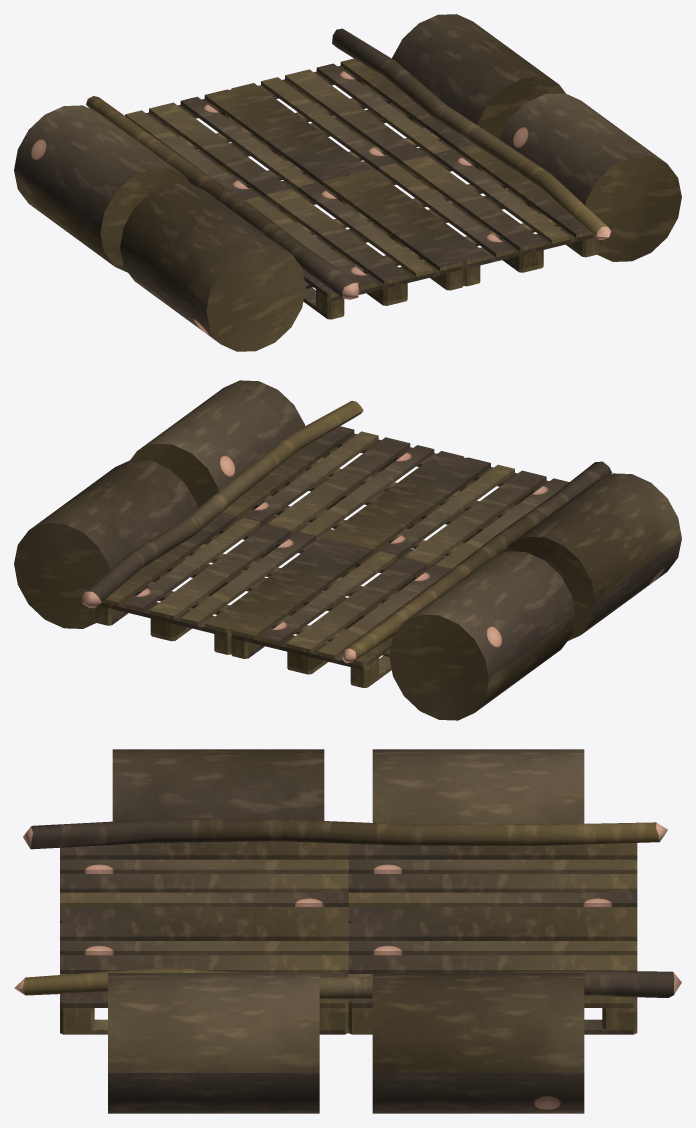
File: Raft001.fbx
3 renders of one model, top to bottom at view 1: azimuth 30°, elevation 25°; view 2: azimuth 150°, elevation 25°; view 3: azimuth 270°, elevation 25°, orthographic. The views are drawn at different scales.
Visible parts, largest first — view 1: Oil_drum_proxy.002, EUR_pallet_proxy.001, Oil_drum_proxy, Oil_drum_proxy.003, EUR_pallet_proxy, EUR_pallet_proxy.003, EUR_pallet_proxy.002, Oil_drum_proxy.001, Big_trunk_2_proxy, Big_trunk_1_proxy; view 2: Oil_drum_proxy.003, EUR_pallet_proxy.003, Oil_drum_proxy.001, EUR_pallet_proxy.002, Oil_drum_proxy.002, EUR_pallet_proxy.001, EUR_pallet_proxy, Oil_drum_proxy, Big_trunk_2_proxy, Big_trunk_1_proxy; view 3: Oil_drum_proxy.001, Oil_drum_proxy, EUR_pallet_proxy, EUR_pallet_proxy.002, EUR_pallet_proxy.003, EUR_pallet_proxy.001, Oil_drum_proxy.003, Oil_drum_proxy.002, Big_trunk_1_proxy, Big_trunk_2_proxy.
Part boxes in pixels (x1,y1,x2,y2): Oil_drum_proxy.002: (120,183,305,351); EUR_pallet_proxy.001: (348,144,599,286); Oil_drum_proxy: (499,93,681,261); Oil_drum_proxy.003: (14,105,190,272); EUR_pallet_proxy: (244,176,463,319); EUR_pallet_proxy.003: (231,58,472,176); EUR_pallet_proxy.002: (125,89,345,200); Oil_drum_proxy.001: (392,14,565,138); Big_trunk_2_proxy: (332,28,611,239); Big_trunk_1_proxy: (86,96,359,299); Oil_drum_proxy.003: (389,551,575,720); EUR_pallet_proxy.003: (95,512,346,654); Oil_drum_proxy.001: (14,459,197,628); EUR_pallet_proxy.002: (231,544,451,687); Oil_drum_proxy.002: (504,473,681,640); EUR_pallet_proxy.001: (222,426,464,544); EUR_pallet_proxy: (349,457,569,568); Oil_drum_proxy: (130,380,305,508); Big_trunk_2_proxy: (81,401,363,608); Big_trunk_1_proxy: (342,461,611,663); Oil_drum_proxy.001: (372,973,584,1113); Oil_drum_proxy: (108,973,319,1113); EUR_pallet_proxy: (60,841,348,923); EUR_pallet_proxy.002: (348,843,637,922); EUR_pallet_proxy.003: (348,922,637,1034); EUR_pallet_proxy.001: (60,922,348,1034); Oil_drum_proxy.003: (372,749,584,824); Oil_drum_proxy.002: (112,749,324,821); Big_trunk_1_proxy: (23,819,667,849); Big_trunk_2_proxy: (14,967,681,999).
Bounding box in the file's own units: 279 × 58.6 × 278.
Materials: 1 (1 with a texture image).
